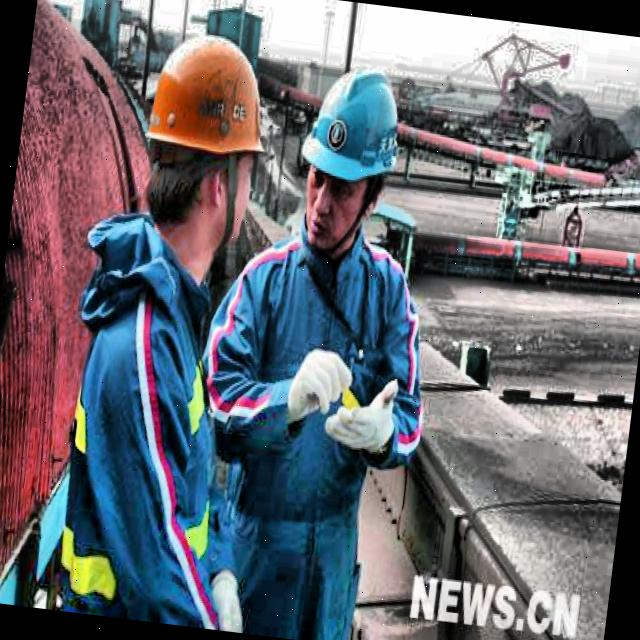helmet: (115, 0, 293, 277), (284, 43, 422, 271)
